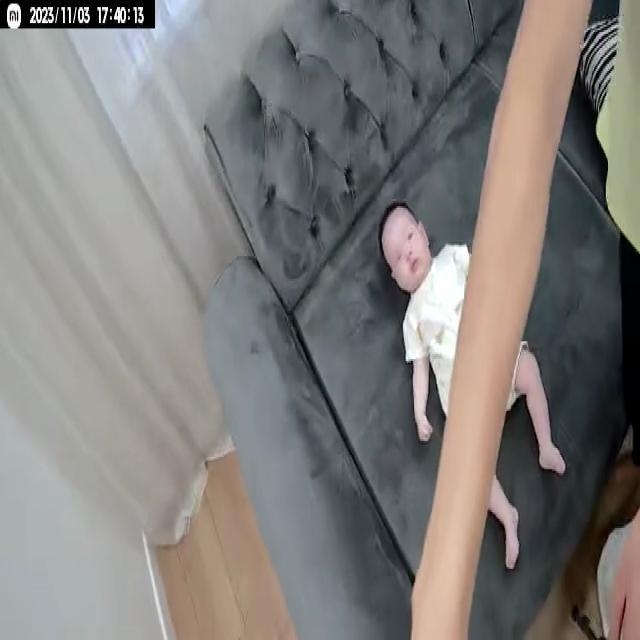baby: (373, 198, 569, 572)
